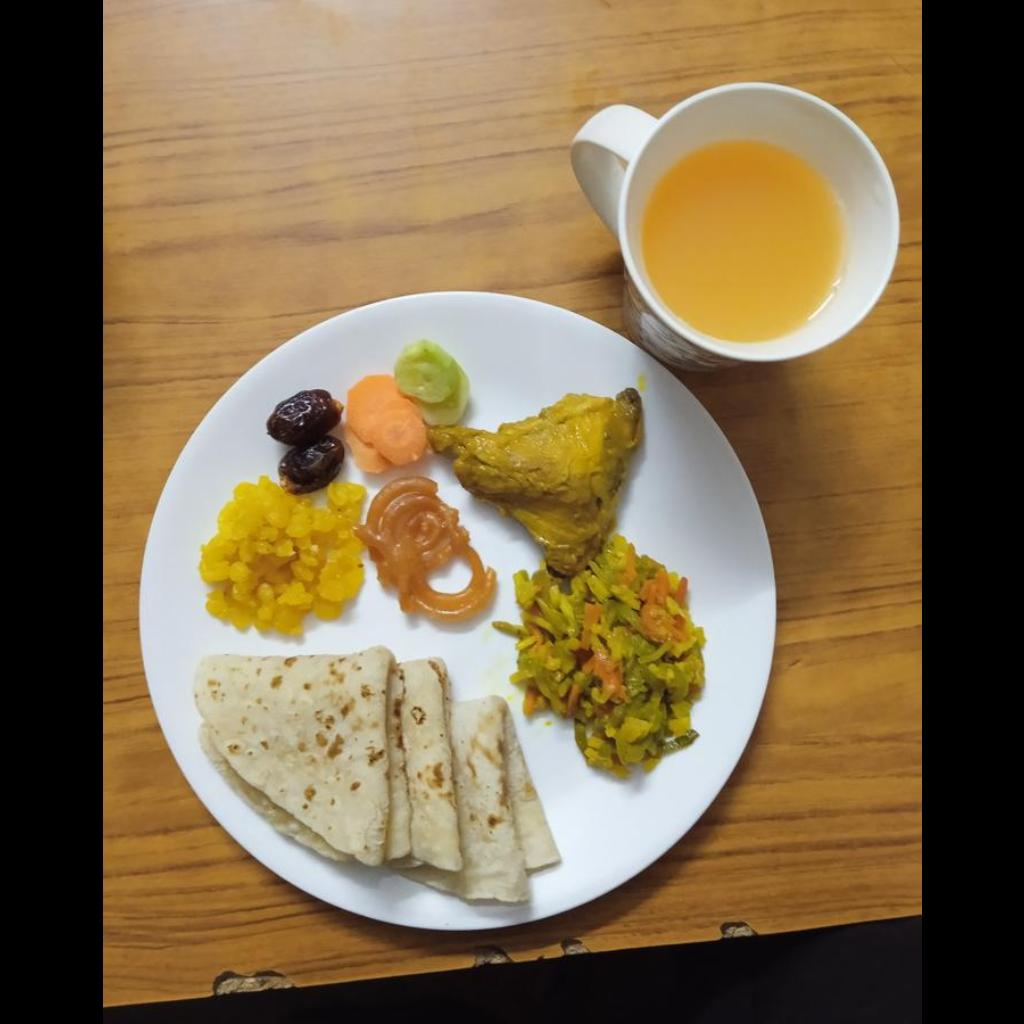burinda: (193, 484, 367, 639)
chicken: (452, 392, 641, 575)
dates: (260, 386, 339, 485)
jilapi: (371, 478, 495, 623)
juice: (647, 145, 846, 335)
ruti: (194, 652, 559, 901)
salad: (345, 341, 467, 481)
vaji: (506, 531, 708, 772)
